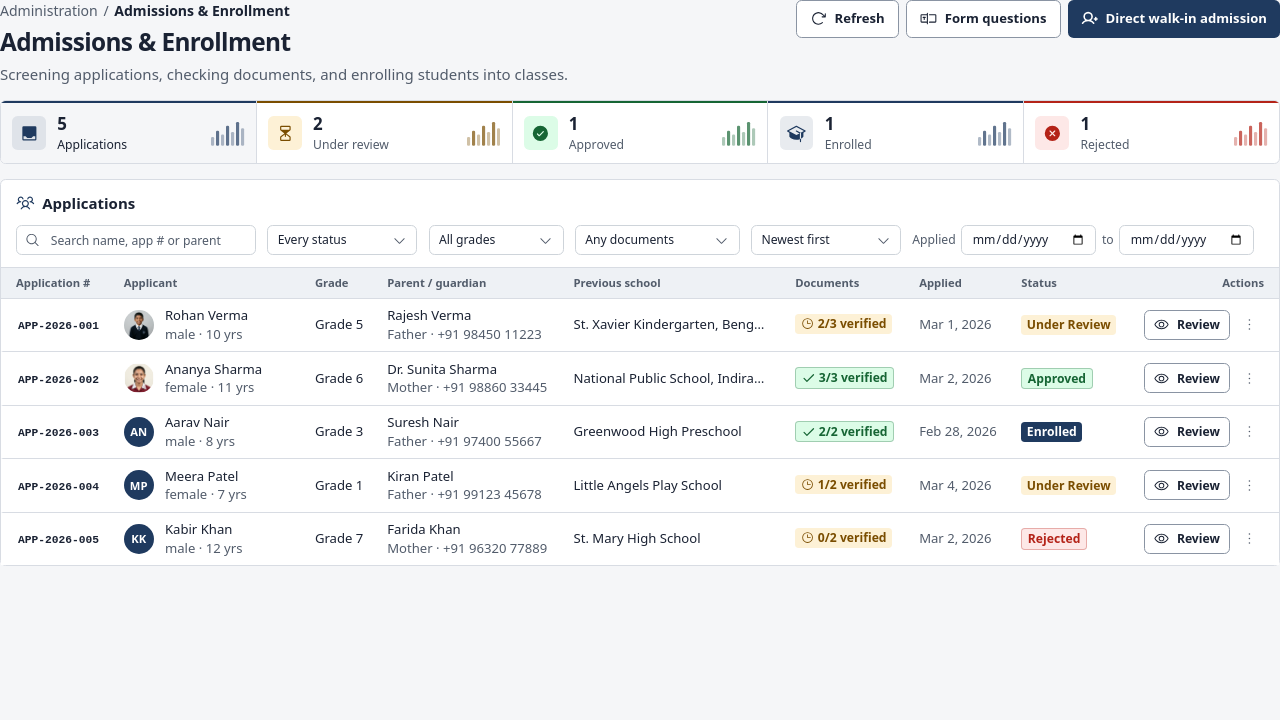
Test case: AdmissionsEnrollmentPage › opens review drawer when clicking review button
Expected: the text "APP-2026-001" is shown, [18,320,99,332]
Click the button "Review" in the row of "APP-2026-001".
click(1187, 325)  # box [1144,310,1230,340]
(page scrolled)
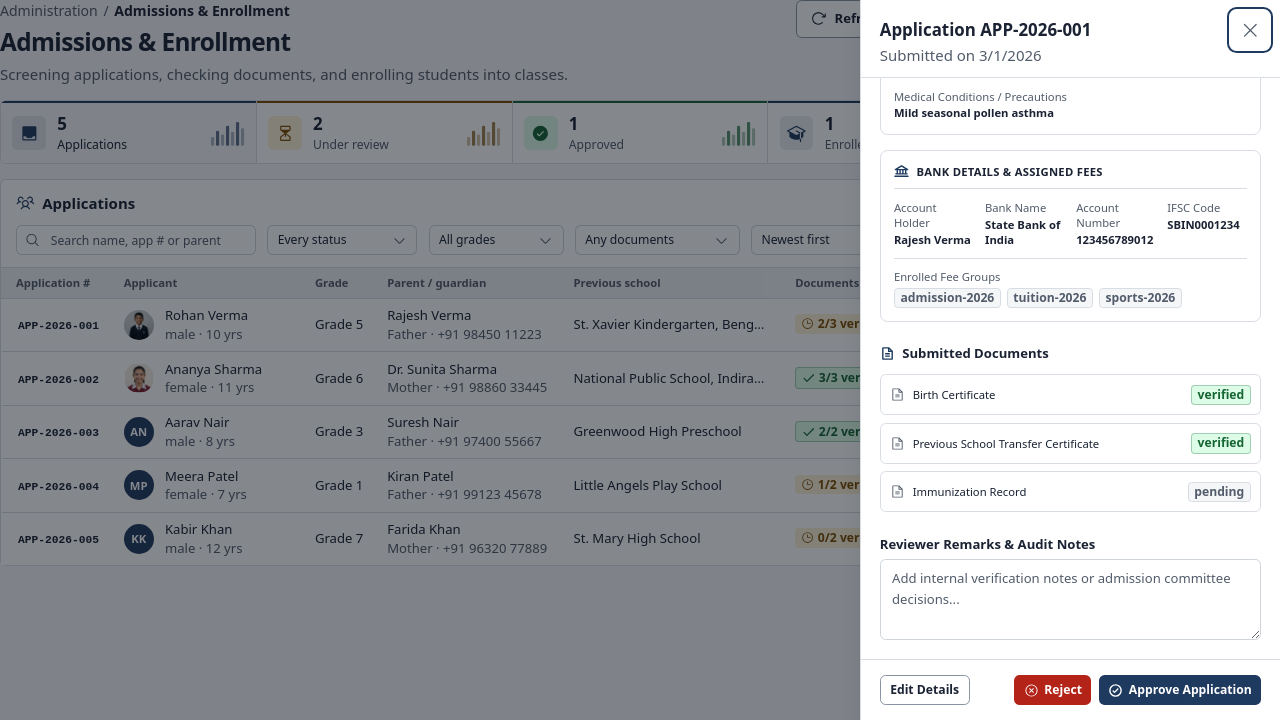
Result: the text "Reviewer Remarks & Audit Notes" is shown at [880,535,1095,553]
